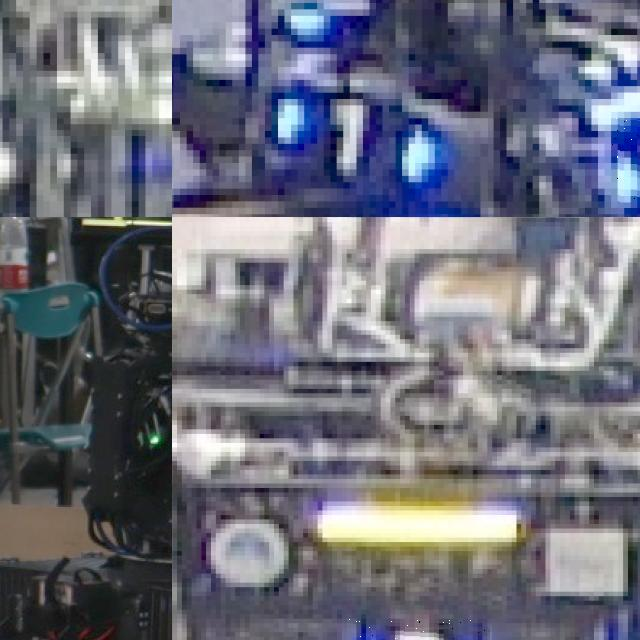B1: (271, 92, 435, 188), (611, 118, 640, 207)
B2: (344, 619, 489, 640)
